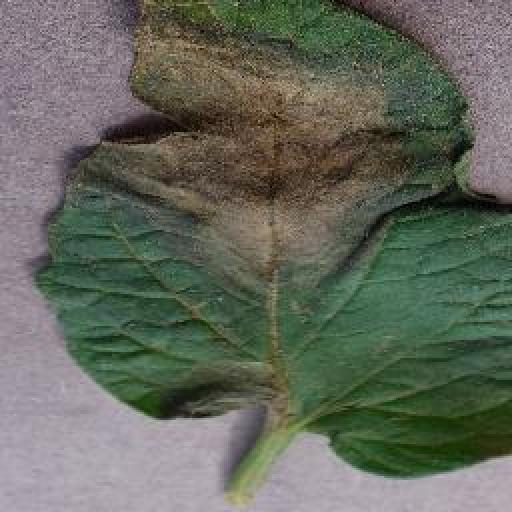disease_tomato: (36, 0, 512, 480)
